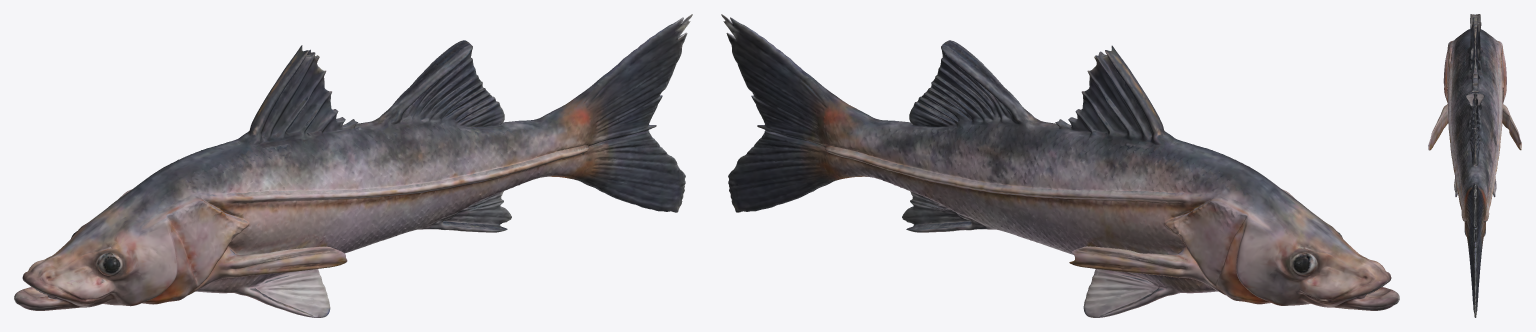
File: robalo.glb
3 renders of one model, left to right at view 1: azimuth 30°, elevation 25°; view 2: azimuth 150°, elevation 25°; view 3: azimuth 270°, elevation 25°, orthographic. The views are drawn at different scales.
Parts seen in each view (by area): view 1: Robalo; view 2: Robalo; view 3: Robalo.
Part boxes in pixels (x1,y1,x2,y2): Robalo: (14,14,692,317); Robalo: (721,14,1399,317); Robalo: (1428,14,1521,317).
Bounding box in the file's own units: 0.4892 × 0.1798 × 0.0839.
1 material, 1 textured.
